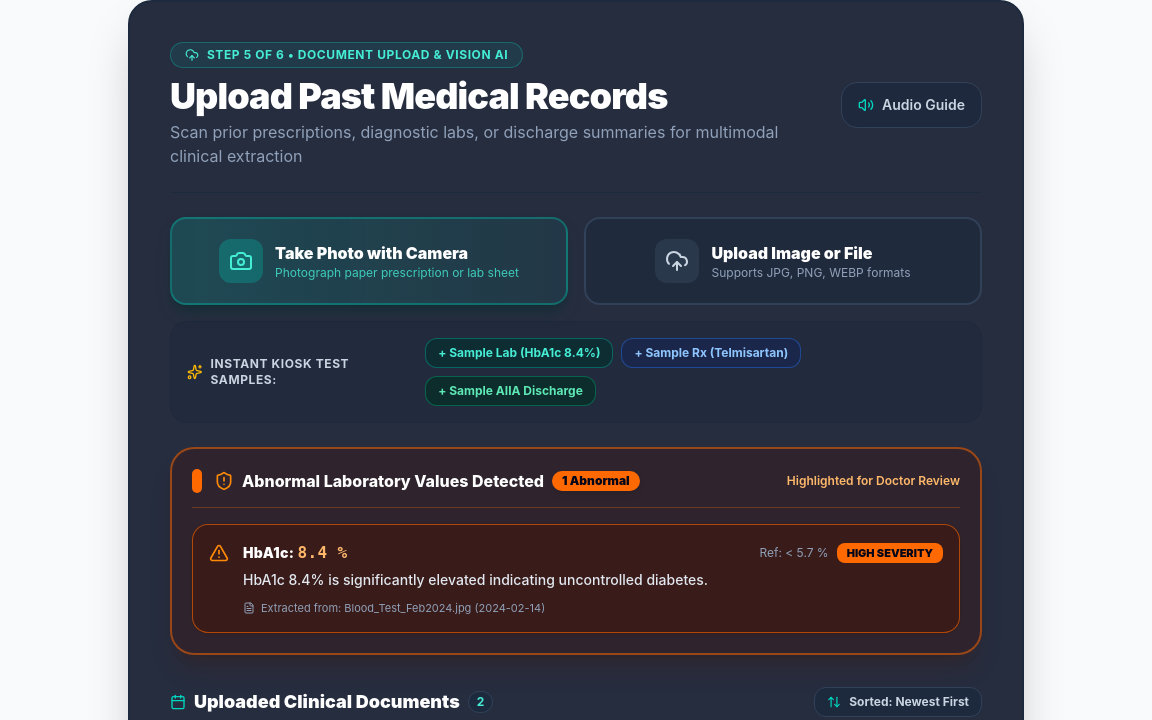
Test case: DocumentUploadStep & Multimodal Vision Document Flow › sorts multiple documents chronologically and allows toggling sort order
The width and height of the screenshot is (1152, 720).
// Toggle sort order
Click the button "Sorted: Newest First": (898, 702) x1=814 y1=687 x2=982 y2=717
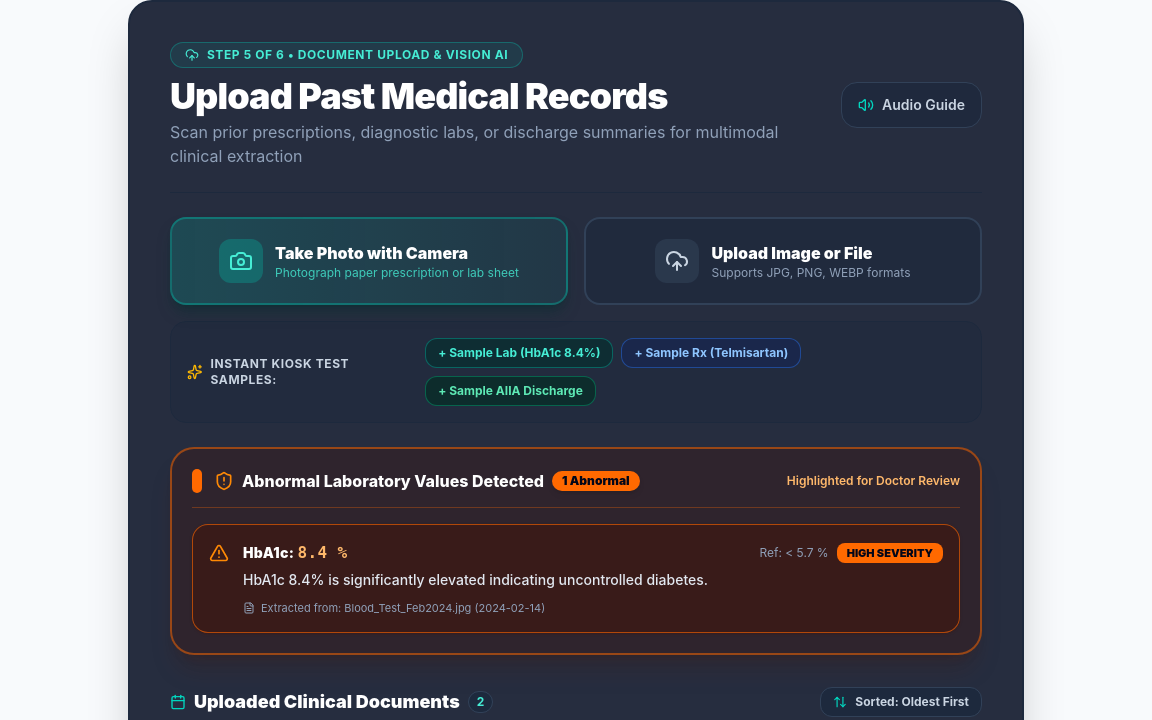
Now the button "Sorted: Oldest First" is shown, box x1=820 y1=687 x2=982 y2=717
